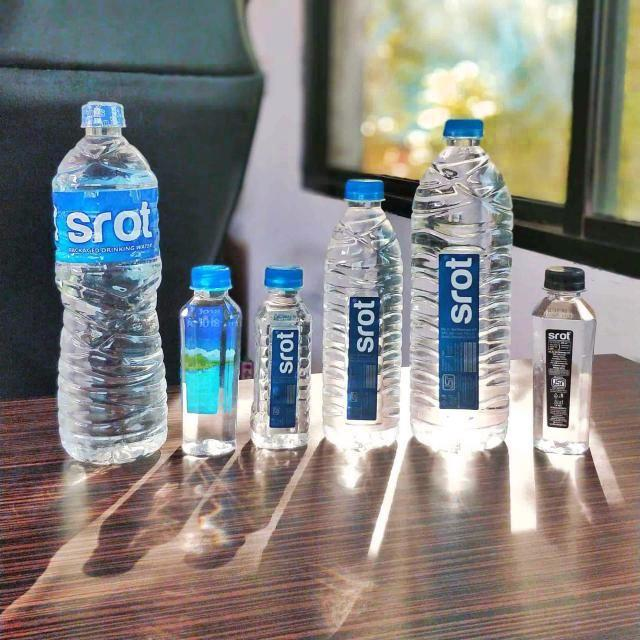bottle: (52, 102, 168, 465), (409, 119, 514, 452), (322, 179, 403, 449), (532, 266, 598, 455), (180, 266, 243, 456), (250, 265, 312, 449)
